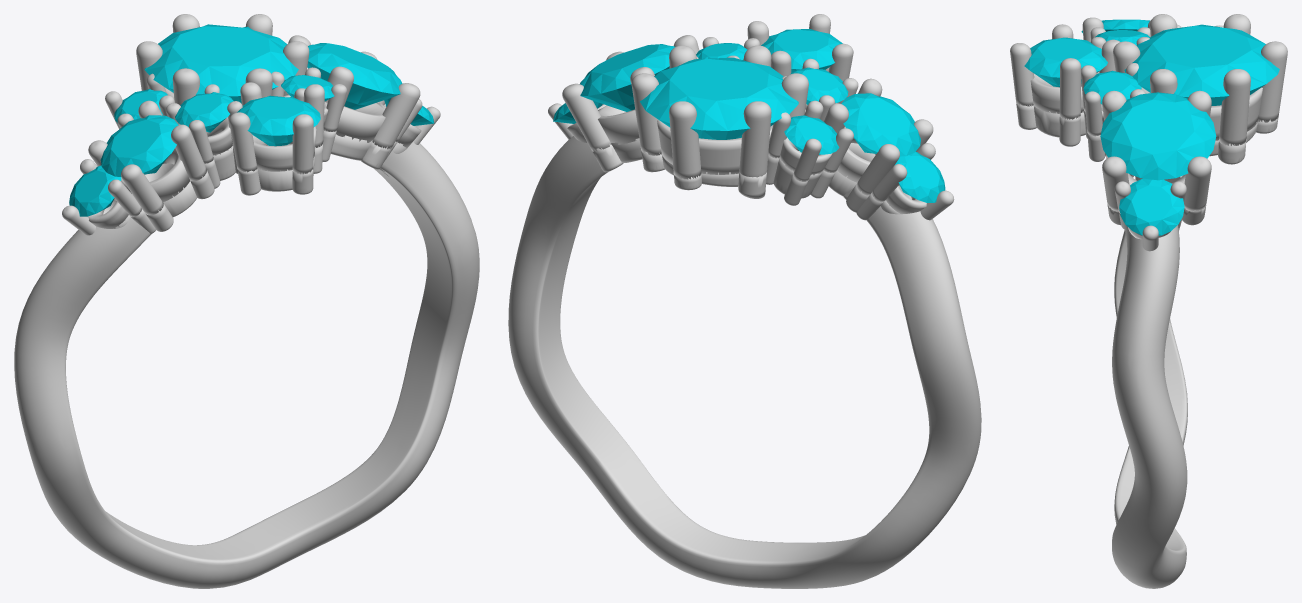
The model's file is WavyRing.glb.
The picture shows the model from 3 angles, left to right: view 1: azimuth 30°, elevation 25°; view 2: azimuth 150°, elevation 25°; view 3: azimuth 270°, elevation 25°; orthographic projection. The views are drawn at different scales.
Parts seen in each view (by area): view 1: WavyRing, MarkerGem, MarkerGem.006, MarkerGem.004, MarkerGem.003, MarkerGem.008, MarkerGem.001, MarkerGem.002, MarkerGem.005; view 2: WavyRing, MarkerGem, MarkerGem.006, MarkerGem.004, MarkerGem.003, MarkerGem.008, MarkerGem.002, MarkerGem.001, MarkerGem.005; view 3: WavyRing, MarkerGem.004, MarkerGem, MarkerGem.007, MarkerGem.003, MarkerGem.005, MarkerGem.006, MarkerGem.001.
Boxes of the visible parts, bbox=[...] form: WavyRing: bbox=[14, 14, 479, 588]; MarkerGem: bbox=[144, 24, 298, 103]; MarkerGem.006: bbox=[100, 115, 178, 176]; MarkerGem.004: bbox=[307, 43, 402, 109]; MarkerGem.003: bbox=[237, 95, 320, 146]; MarkerGem.008: bbox=[69, 165, 121, 216]; MarkerGem.001: bbox=[175, 92, 233, 132]; MarkerGem.002: bbox=[114, 89, 167, 122]; MarkerGem.005: bbox=[281, 75, 334, 101]; WavyRing: bbox=[508, 14, 981, 588]; MarkerGem: bbox=[640, 57, 798, 139]; MarkerGem.006: bbox=[841, 93, 920, 156]; MarkerGem.004: bbox=[580, 44, 674, 111]; MarkerGem.003: bbox=[761, 28, 842, 72]; MarkerGem.008: bbox=[894, 151, 945, 202]; MarkerGem.002: bbox=[784, 115, 839, 154]; MarkerGem.001: bbox=[790, 67, 848, 104]; MarkerGem.005: bbox=[696, 43, 747, 60]; WavyRing: bbox=[1010, 14, 1287, 588]; MarkerGem.004: bbox=[1100, 92, 1216, 180]; MarkerGem: bbox=[1124, 24, 1279, 105]; MarkerGem.007: bbox=[1119, 178, 1184, 235]; MarkerGem.003: bbox=[1024, 37, 1107, 87]; MarkerGem.005: bbox=[1083, 70, 1141, 104]; MarkerGem.006: bbox=[1081, 19, 1149, 33]; MarkerGem.001: bbox=[1095, 30, 1149, 45].
Bounding box in the file's own units: 1 × 1.09 × 0.5259.
